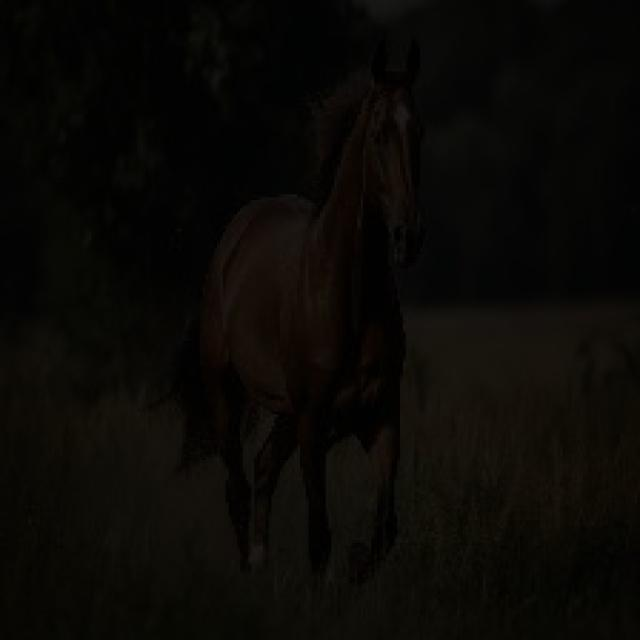bear: (138, 56, 478, 597)
